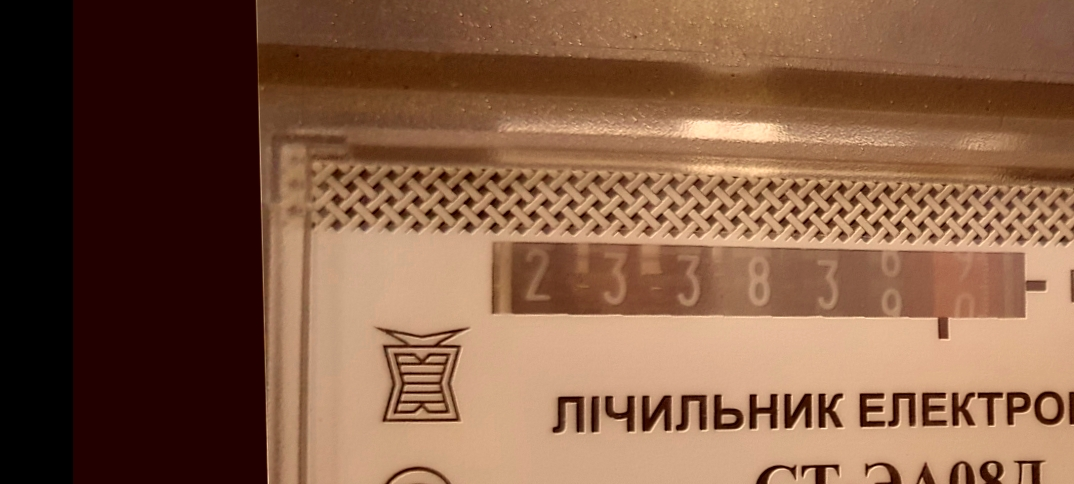0: (953, 290, 980, 324)
2: (519, 244, 559, 306)
3: (670, 248, 708, 312), (815, 254, 845, 311), (602, 248, 630, 307)
8: (743, 250, 778, 310), (880, 246, 907, 278)
9: (950, 246, 981, 285), (879, 284, 908, 321)
screen: (462, 206, 1058, 376)
